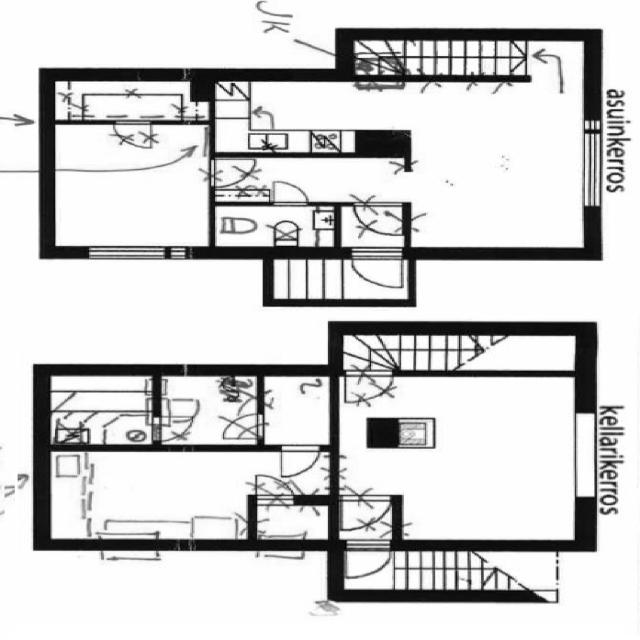door: (208, 203, 342, 251), (346, 246, 406, 291), (342, 539, 396, 580), (348, 201, 409, 237), (208, 155, 262, 190), (106, 118, 158, 151), (276, 443, 324, 477), (263, 178, 315, 209), (354, 492, 396, 528), (359, 362, 398, 397), (146, 421, 192, 445), (228, 410, 268, 437)
window: (562, 408, 602, 502), (572, 115, 608, 214), (77, 242, 194, 264)
zone: (382, 374, 584, 546), (404, 91, 592, 255), (44, 448, 324, 541), (54, 121, 212, 256), (209, 77, 404, 155), (46, 372, 156, 448), (156, 372, 262, 447), (210, 204, 342, 250), (262, 371, 336, 448), (253, 499, 333, 544)
